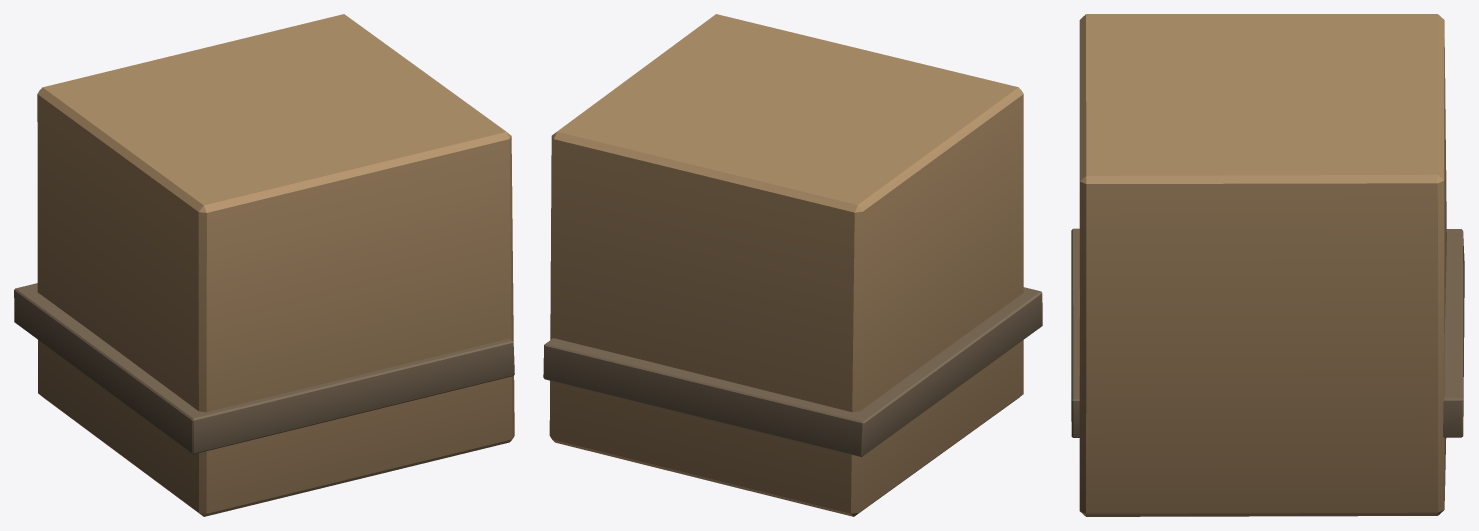
File: crate.glb
3 views of the same model, side by side, from view 1: azimuth 30°, elevation 25°; view 2: azimuth 150°, elevation 25°; view 3: azimuth 270°, elevation 25° (orthographic). The views are drawn at different scales.
Parts seen in each view (by area): view 1: Body, Band; view 2: Body, Band; view 3: Body, Band.
Boxes of the visible parts, <box> form: Body: <box>37,14,514,516</box>; Band: <box>14,283,514,454</box>; Body: <box>549,14,1023,516</box>; Band: <box>543,287,1042,456</box>; Body: <box>1079,14,1446,516</box>; Band: <box>1071,228,1464,437</box>.
Bounding box in the file's own units: 0.7732 × 0.701 × 0.7345.
